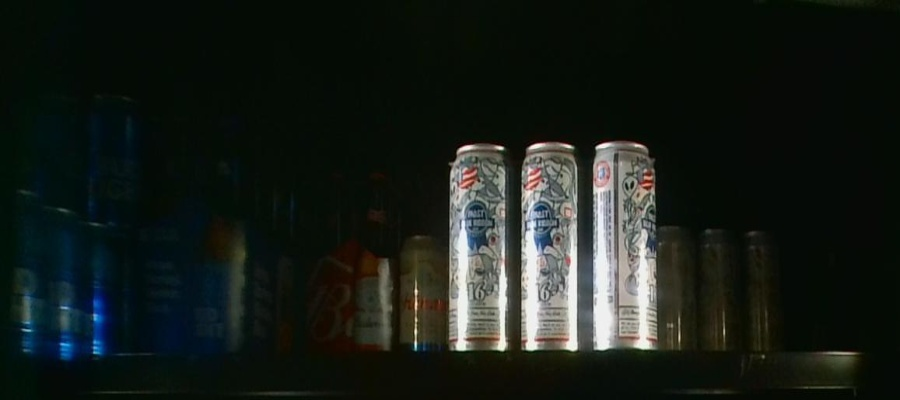bottle: (448, 141, 655, 354), (140, 149, 303, 355), (1, 204, 134, 361), (306, 162, 394, 355), (655, 224, 783, 351), (396, 231, 446, 355)
